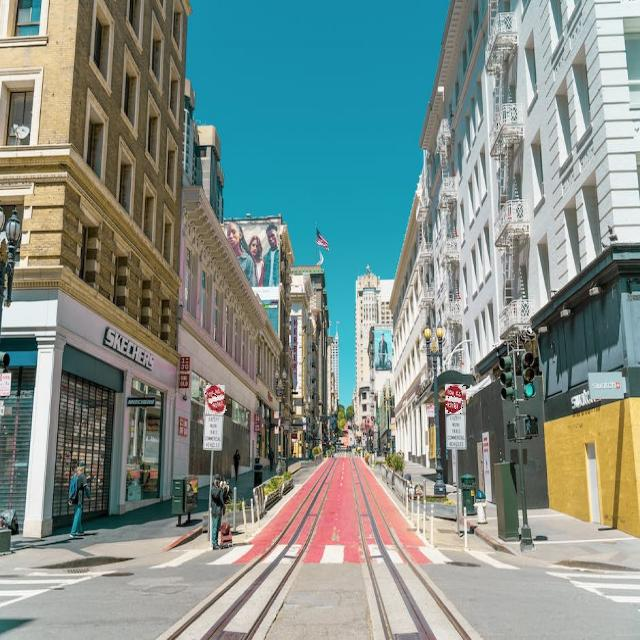no entry: (205, 385, 225, 415), (446, 385, 466, 414)
